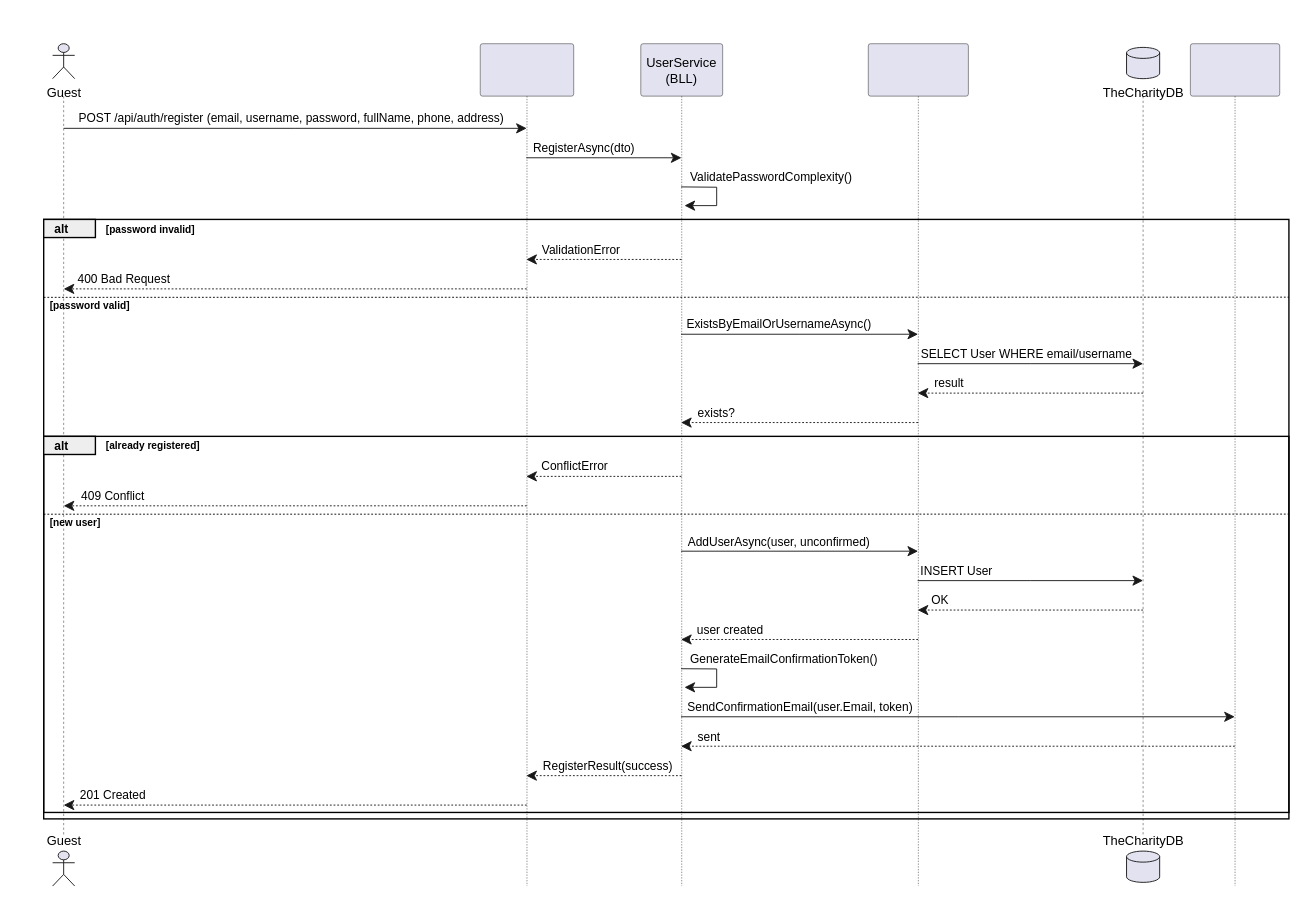
The diagram is 1305 pixels wide and 903 high, and some of its shapes have lost their labels. Here are the shapes that lost their labels. From the top down, the box of each, then its label:
(480, 43, 574, 886): AuthController (PL)
(868, 43, 968, 886): UserRepository (DAL)
(1190, 43, 1280, 886): EmailService
